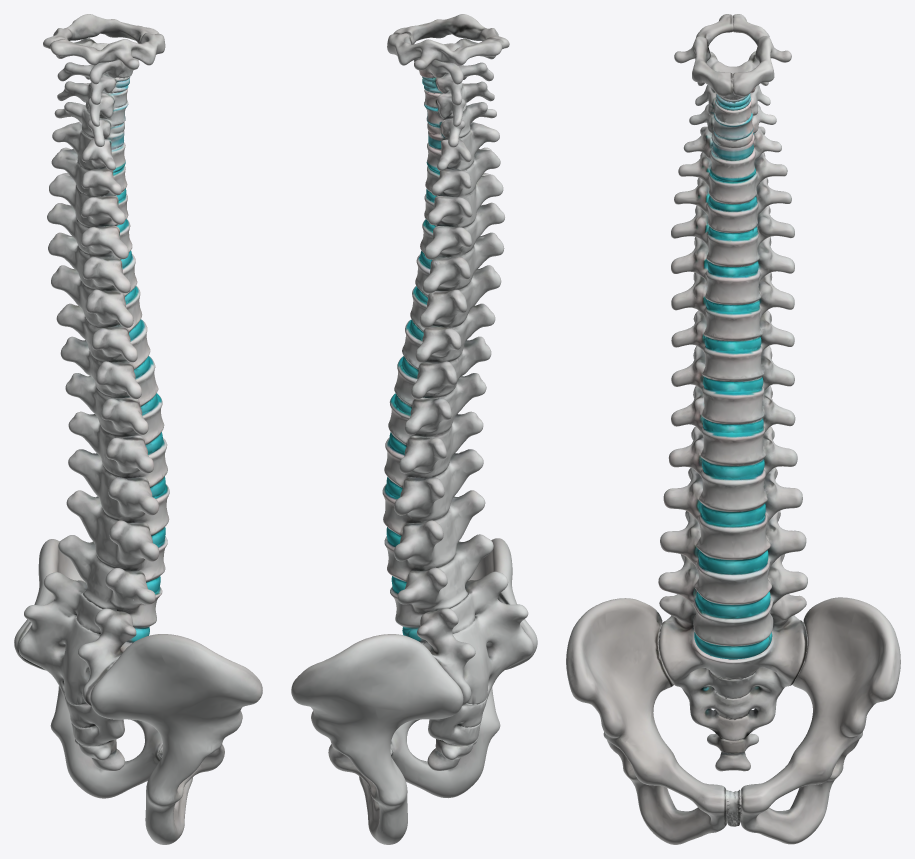
File: spine.glb
3 renders of one model, left to right at view 1: azimuth 30°, elevation 25°; view 2: azimuth 150°, elevation 25°; view 3: azimuth 270°, elevation 25°, orthographic.
Visible parts, largest first — view 1: tripo_node_359a29d5-d003-46f5-a696-35dfe0dda1f9; view 2: tripo_node_359a29d5-d003-46f5-a696-35dfe0dda1f9; view 3: tripo_node_359a29d5-d003-46f5-a696-35dfe0dda1f9.
Boxes of the visible parts, bbox=[...] form: tripo_node_359a29d5-d003-46f5-a696-35dfe0dda1f9: bbox=[14, 14, 262, 844]; tripo_node_359a29d5-d003-46f5-a696-35dfe0dda1f9: bbox=[291, 14, 537, 844]; tripo_node_359a29d5-d003-46f5-a696-35dfe0dda1f9: bbox=[566, 14, 900, 844].
Size of the model in its own units: 0.1959 by 0.981 by 0.3774.
1 material, 1 textured.
